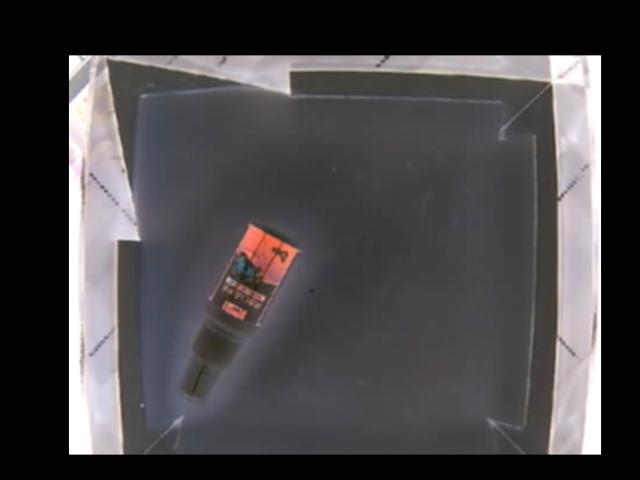Bottle: (175, 217, 300, 408)
